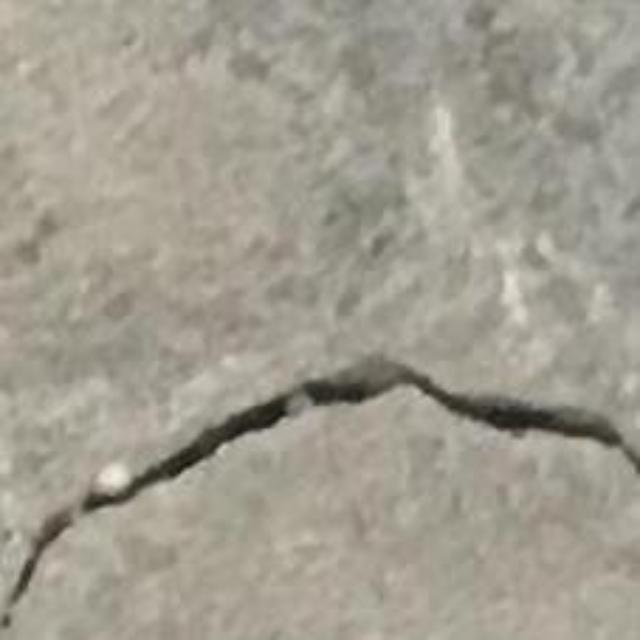crack: (0, 353, 639, 625)
